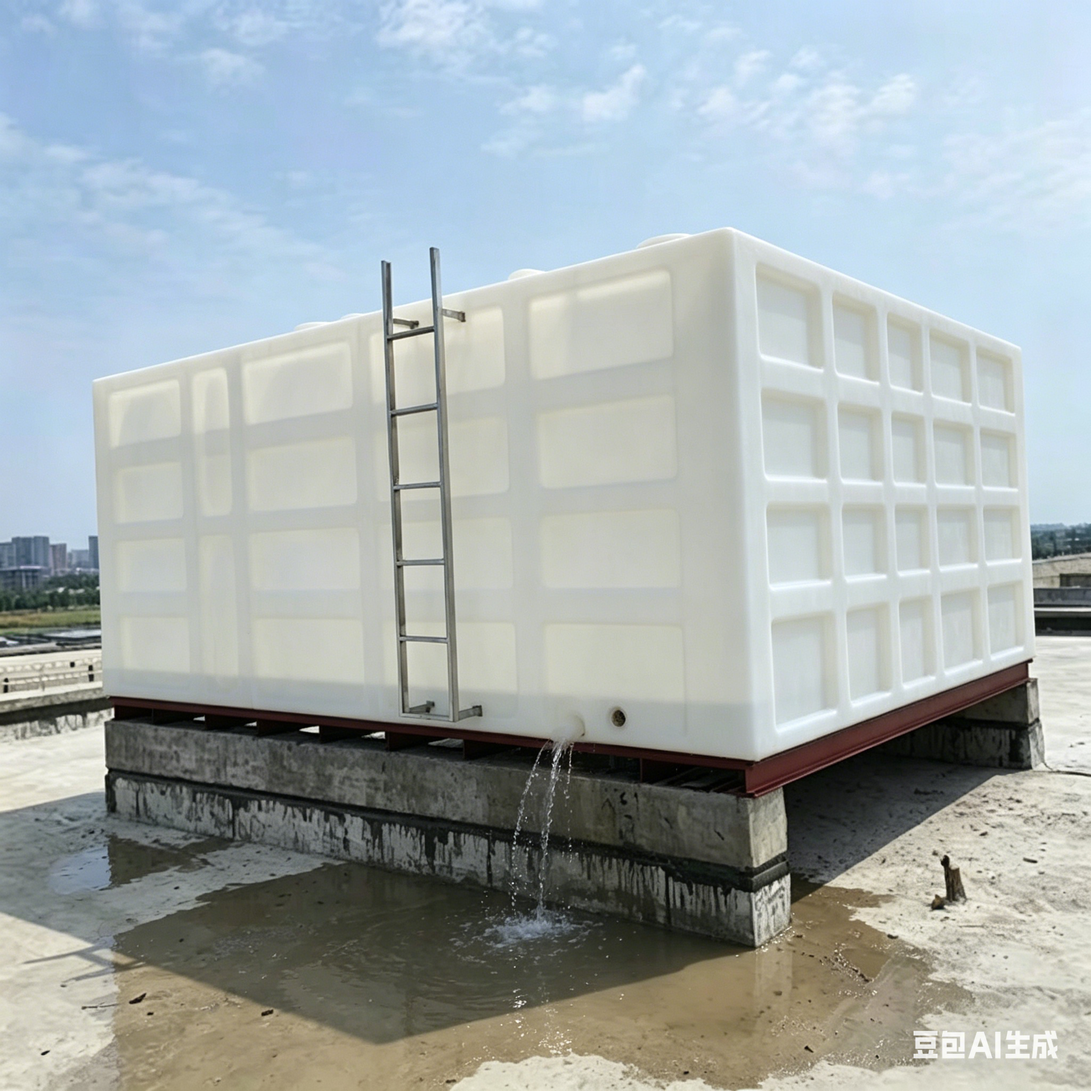Leakage: (618, 906, 947, 1079), (120, 937, 487, 1089), (497, 710, 608, 1063), (178, 878, 493, 923), (46, 842, 166, 892)
